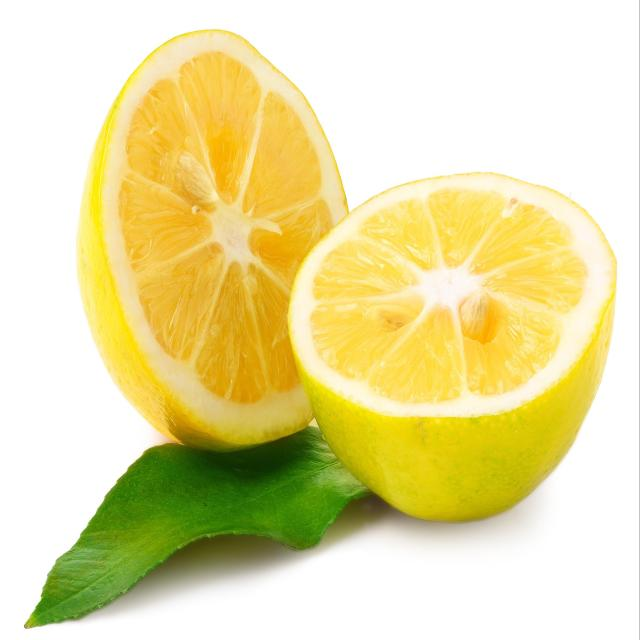lemon: (283, 163, 625, 537), (71, 21, 356, 465)
